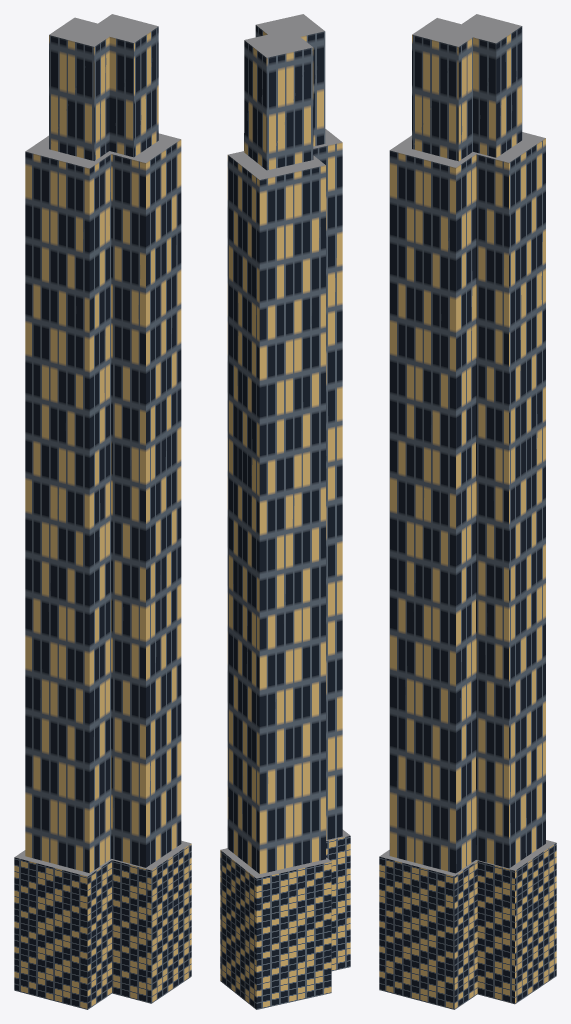
File: hampton-tower.glb
3 views of the same model, side by side, from view 1: azimuth 90°, elevation 25°; view 2: azimuth 150°, elevation 25°; view 3: azimuth 270°, elevation 25° (orthographic).
Visible parts, largest first — view 1: hampton-tower; view 2: hampton-tower; view 3: hampton-tower.
Boxes of the visible parts, left/top/right/bottom form: hampton-tower: left=14, top=14, right=191, bottom=1009; hampton-tower: left=220, top=14, right=350, bottom=1009; hampton-tower: left=379, top=14, right=556, bottom=1009.
Bounding box in the file's own units: 0.3558 × 2.97 × 0.5016.
2 materials, 1 textured.
